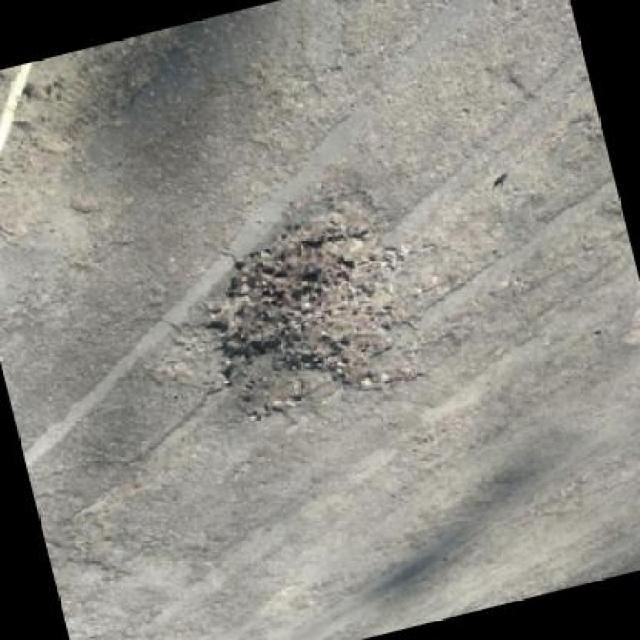pothole1: (190, 198, 427, 424)
